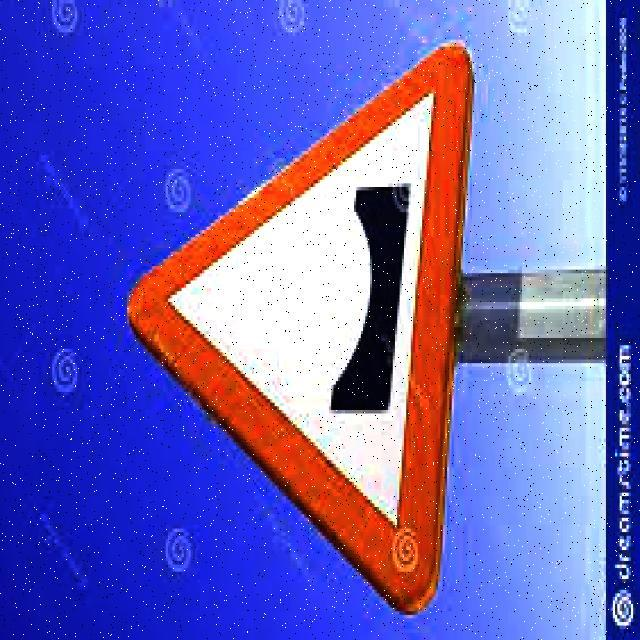Traffic sign: (121, 37, 482, 621)
